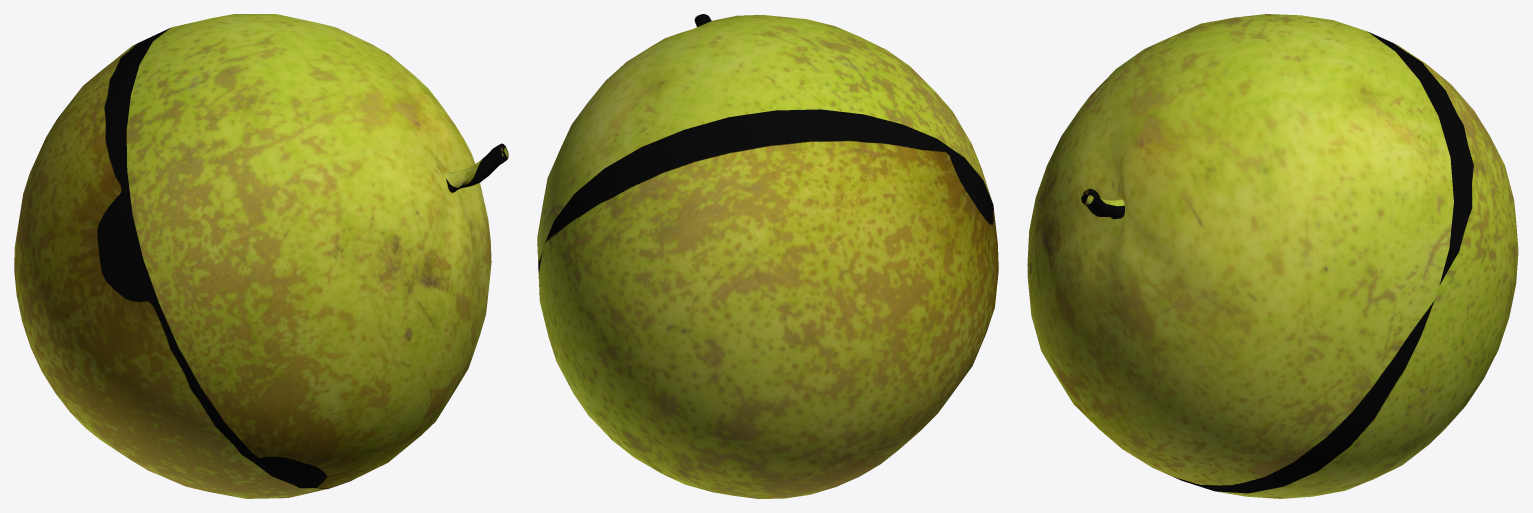
3 renders of one model, left to right at view 1: azimuth 30°, elevation 25°; view 2: azimuth 150°, elevation 25°; view 3: azimuth 270°, elevation 25°, orthographic. The views are drawn at different scales.
Size of the model in its own units: 0.9742 by 0.9968 by 1.
